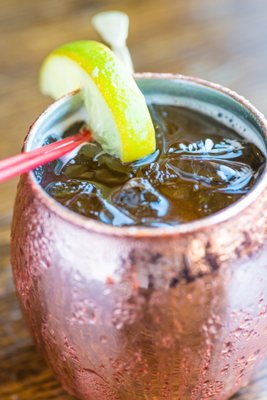salad: (0, 129, 93, 185)
